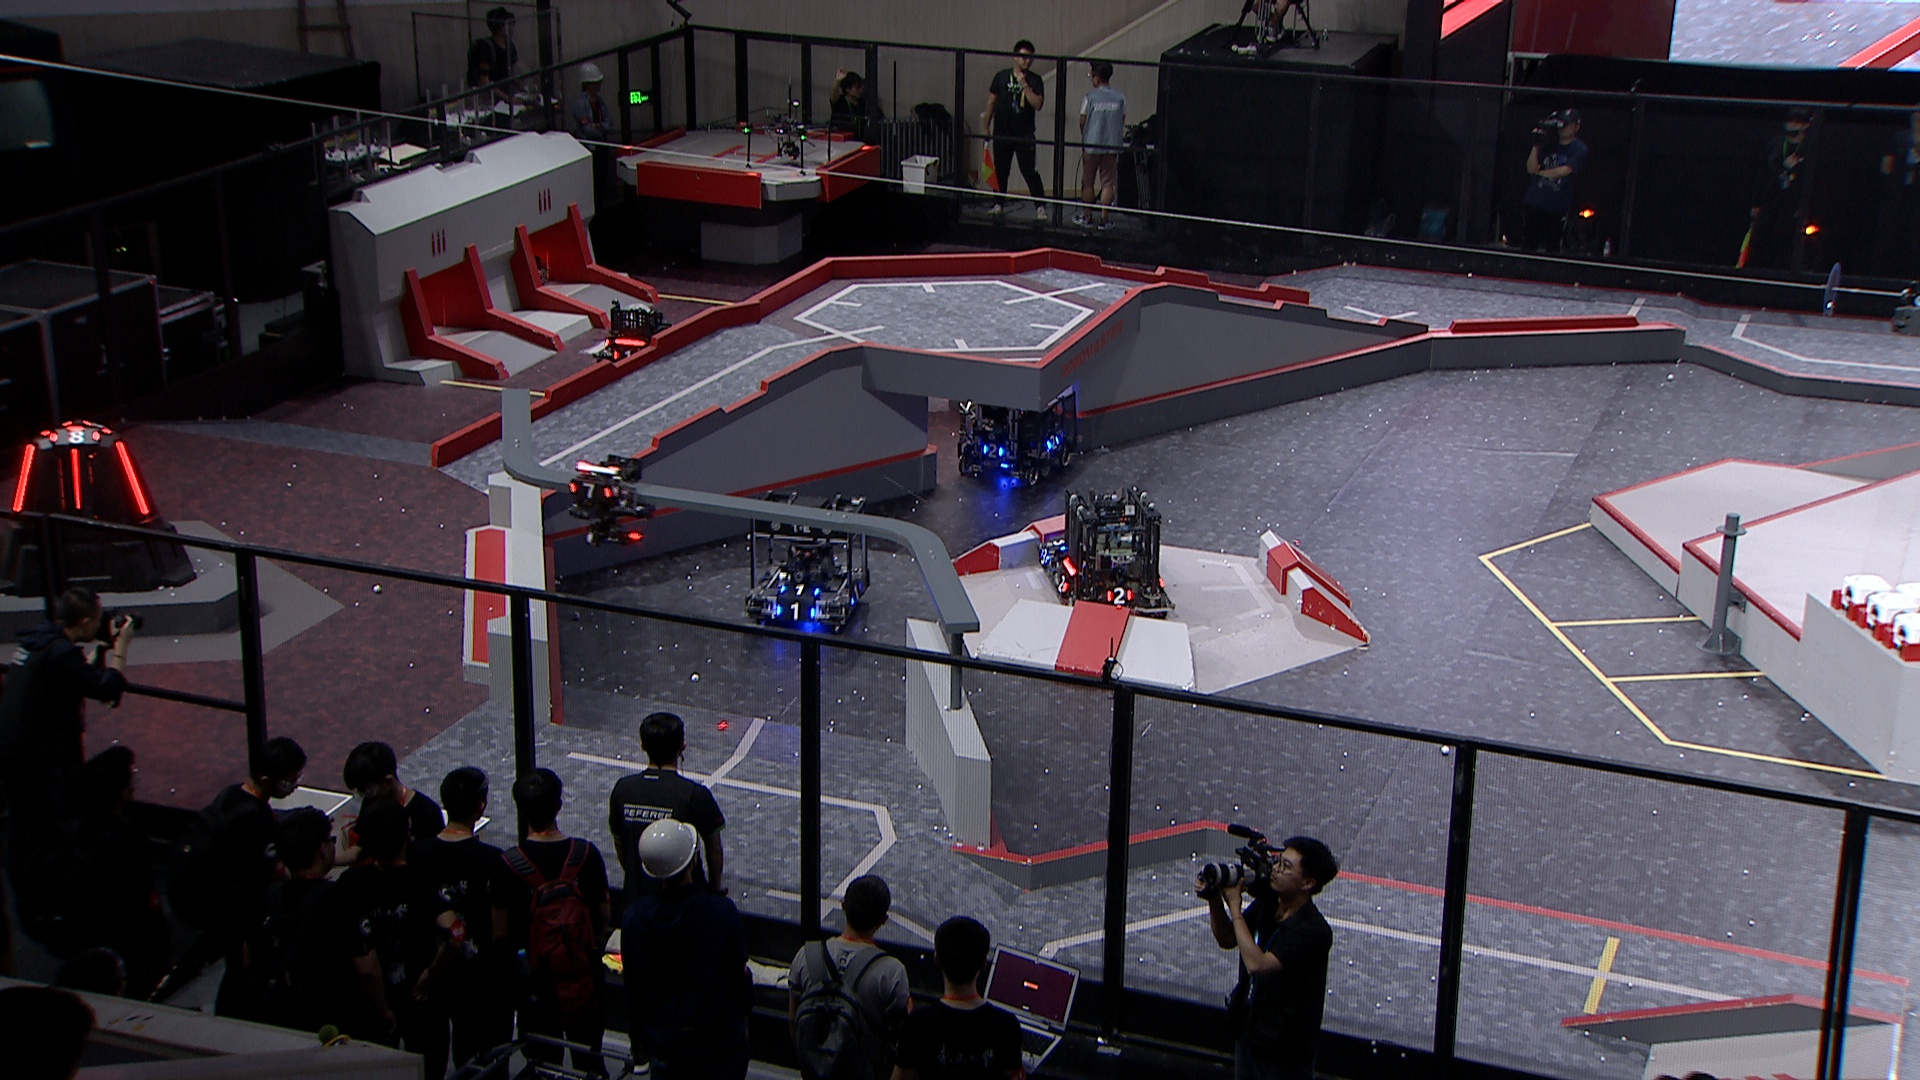armor: (115, 440, 149, 517), (12, 439, 36, 510), (65, 446, 83, 510), (47, 429, 100, 444), (567, 480, 611, 498), (775, 603, 812, 621), (779, 583, 814, 597), (1106, 585, 1133, 603), (982, 442, 1005, 458), (851, 583, 865, 607), (611, 347, 632, 363), (1054, 574, 1067, 593), (1036, 549, 1050, 567), (1048, 537, 1064, 551), (1048, 434, 1060, 447)
car: (736, 487, 876, 632), (1044, 483, 1176, 624), (953, 365, 1083, 487), (589, 301, 686, 385), (1034, 520, 1087, 576)
watcher: (560, 448, 655, 551)
